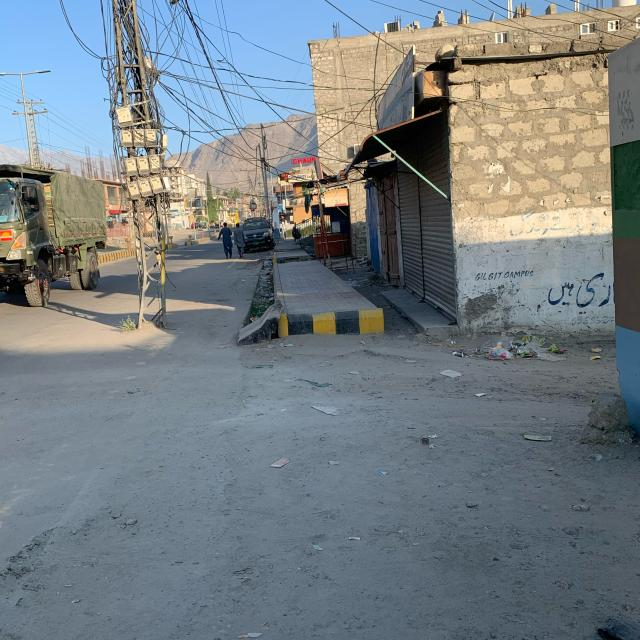Right-Turn: (180, 333, 592, 640)
straight: (4, 240, 221, 442)
